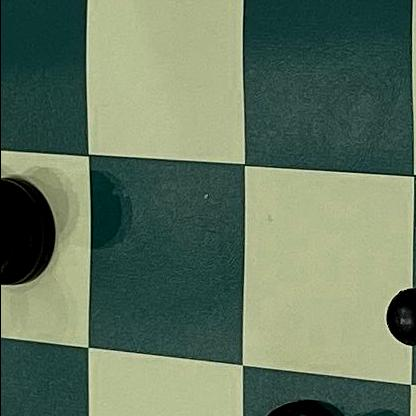black-pawn: (373, 243, 416, 371), (177, 390, 358, 416)
black-rook: (0, 164, 70, 303)
